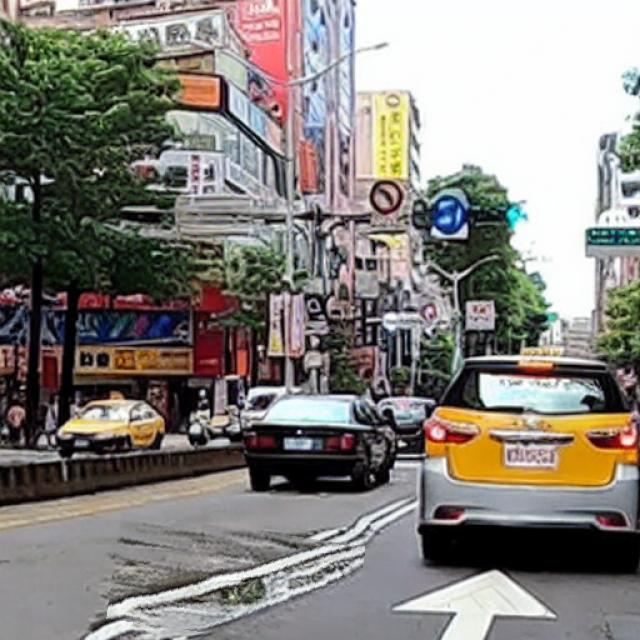puddle: (109, 521, 363, 640)
